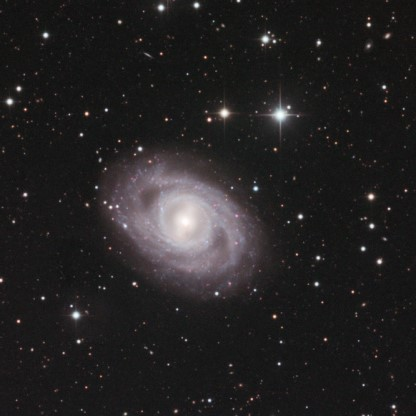Messier 95: (82, 135, 283, 313)
